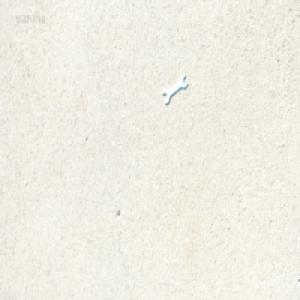Wrench: (163, 78, 186, 107)
